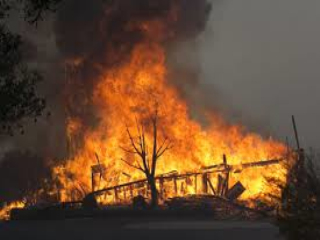fire: (42, 71, 290, 211)
smoke: (27, 7, 208, 68)
